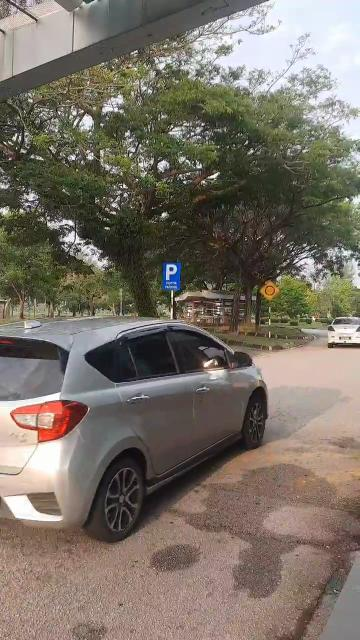car: (2, 306, 283, 542), (335, 320, 360, 358)
